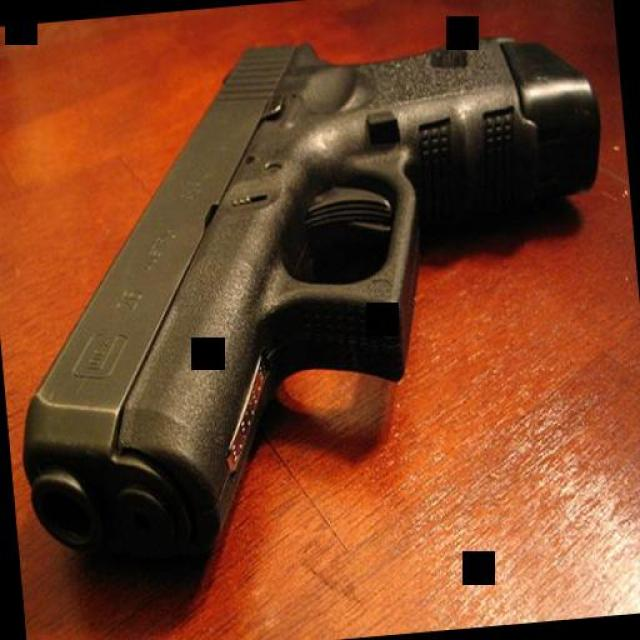gun: (0, 11, 631, 582)
